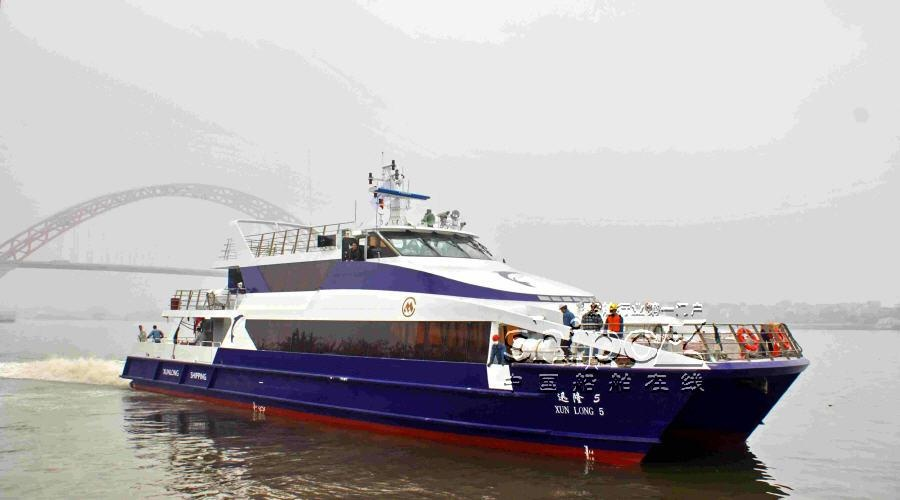yacht: (113, 152, 813, 463)
